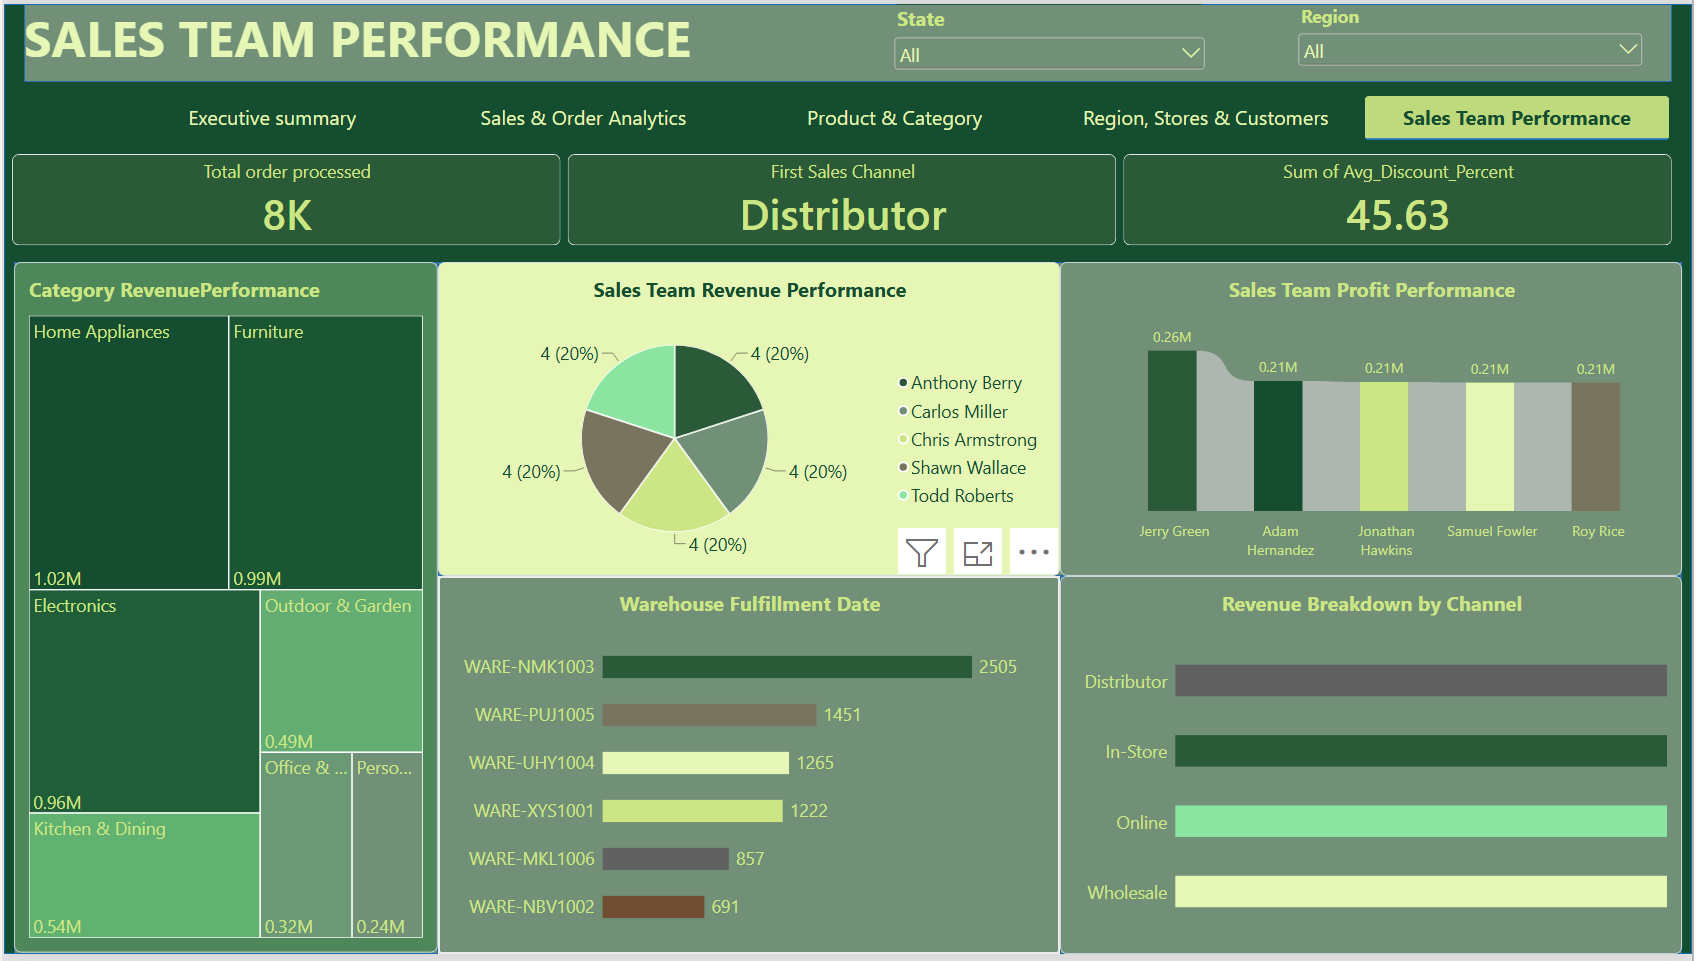

This screenshot's page, from the dashboard's own definition file:
{"tool":"powerbi","page":{"name":"Sales Team Performance","canvas":[1920,1080],"ordinal":4},"visuals":[{"type":"shape","box":[0,0,1920,1080.6],"z":0},{"type":"shape","box":[22.7,0,1874.5,88.7],"z":1000},{"type":"shape","box":[11.4,293.5,482.3,787.1],"z":2000},{"type":"shape","box":[493.6,293.5,1415,357.2],"z":3000},{"type":"shape","box":[493.6,650.6,707.5,430],"z":4000},{"type":"shape","box":[1201.1,650.6,707.5,430],"z":5000},{"type":"textbox","title":"SALES TEAM PERFORMANCE","box":[22.7,20.5,784.8,68.2],"z":6000},{"type":"pieChart","title":"Sales Team Revenue Performance","fields":{"Category":["oyinkansola sales_team_usa.Sales Team"],"Y":["CountNonNull(Query1.Total_Revenue)"]},"box":[493.6,293.5,707.5,357.2],"z":7000},{"type":"slicer","fields":{"Values":["oyinkansola region_usa.State"]},"box":[1008.7,0,363.1,87.8],"z":8000},{"type":"slicer","fields":{"Values":["Query5.Region"]},"box":[1466.7,0,401.1,87.8],"z":9000},{"type":"treemap","title":"Category RevenuePerformance","fields":{"Group":["oyinkansola product_usa.Category"],"Values":["oyinkansola customer_usa.Total Revenue"]},"box":[11.9,294.3,481.8,785.6],"z":10000},{"type":"pageNavigator","box":[131.9,104.6,1765.3,50],"z":11000},{"type":"cardVisual","fields":{"Data":["Query1.Total order processed","Min(Query1.Sales Channel)","Sum(Query6.Avg_Discount_Percent)"]},"box":[9.1,170.6,1888.2,104.6],"z":12000},{"type":"barChart","title":" Warehouse Fulfillment Date","fields":{"Category":["oyinkansola sales_order_usa.WarehouseCode"],"Y":["CountNonNull(oyinkansola sales_order_usa.deliveryDate)"]},"box":[493.6,650.6,707.5,430],"z":13000},{"type":"clusteredBarChart","title":"Revenue Breakdown by Channel","fields":{"Category":["oyinkansola sales_order_usa.Sales Channel"],"Y":["CountNonNull(Query1.Total_Revenue)"]},"box":[1201.1,650.6,707.5,430],"z":14000},{"type":"columnChart","title":"Sales Team Profit Performance","fields":{"Category":["oyinkansola sales_team_usa.Sales Team"],"Y":["Query1.total profits"]},"box":[1201.1,293.5,707.5,357.2],"z":15000}]}

Visuals, with their boxes in screenshot pixels (x1, y1, x2, y2), scaled from the page's 1920x1080 canvas onto the 1708x961 screenshot:
shape: (x1=0, y1=0, x2=1707, y2=960)
shape: (x1=20, y1=0, x2=1688, y2=79)
shape: (x1=10, y1=261, x2=439, y2=960)
shape: (x1=439, y1=261, x2=1698, y2=579)
shape: (x1=439, y1=579, x2=1068, y2=960)
shape: (x1=1068, y1=579, x2=1698, y2=960)
"SALES TEAM PERFORMANCE" textbox: (x1=20, y1=18, x2=718, y2=79)
"Sales Team Revenue Performance" pieChart: (x1=439, y1=261, x2=1068, y2=579)
slicer - oyinkansola region_usa.State: (x1=897, y1=0, x2=1220, y2=78)
slicer - Query5.Region: (x1=1305, y1=0, x2=1662, y2=78)
"Category RevenuePerformance" treemap: (x1=11, y1=262, x2=439, y2=960)
pageNavigator: (x1=117, y1=93, x2=1688, y2=138)
cardVisual - Query1.Total order processed x Min(Query1.Sales Channel): (x1=8, y1=152, x2=1688, y2=245)
" Warehouse Fulfillment Date" barChart: (x1=439, y1=579, x2=1068, y2=960)
"Revenue Breakdown by Channel" clusteredBarChart: (x1=1068, y1=579, x2=1698, y2=960)
"Sales Team Profit Performance" columnChart: (x1=1068, y1=261, x2=1698, y2=579)
